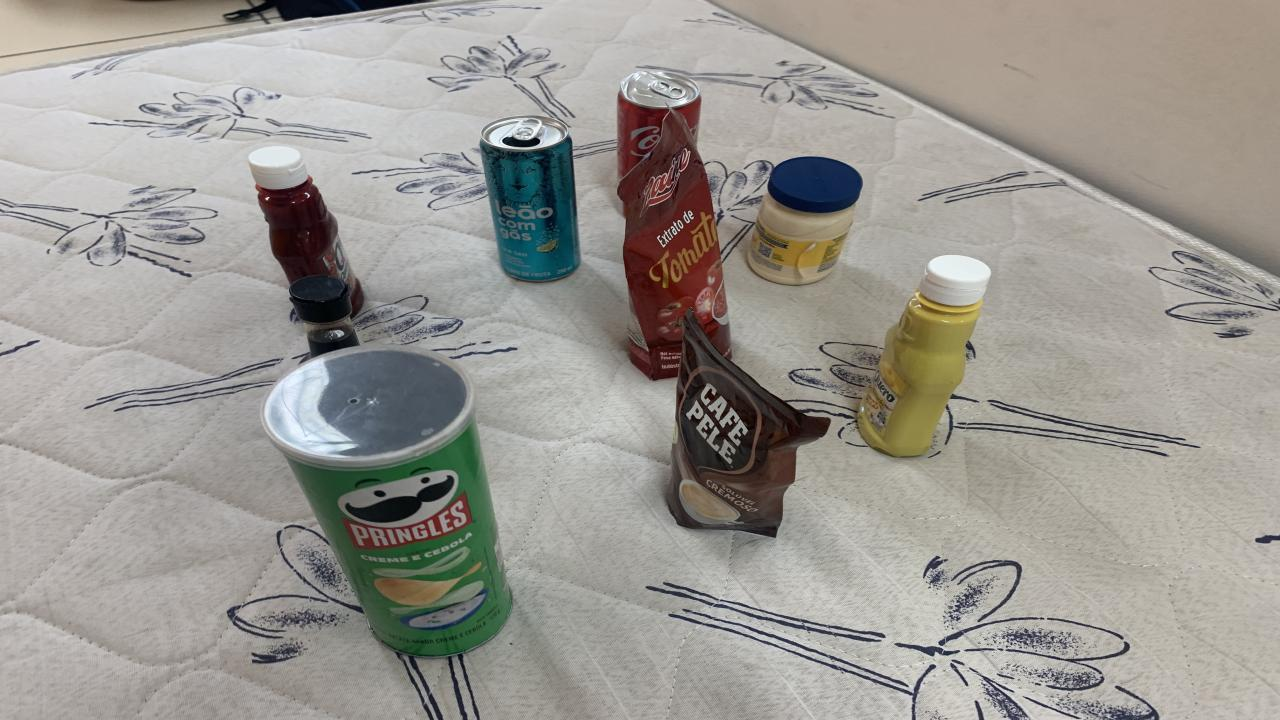Coffee-Pantry_Items: (668, 313, 830, 536), (248, 146, 362, 315)
Coke-Drinks: (618, 71, 700, 178)
English_Sauce-Pantry_Items: (290, 276, 360, 356)
Ketchup-Pantry_Items: (248, 146, 362, 315)
Mayonnaise-Pantry_Items: (748, 158, 862, 285)
Mustard-Pantry_Items: (858, 255, 990, 458)
Pringles-Snacks: (262, 345, 512, 656)
Tea-Drinks: (480, 116, 580, 281)
Tomato_Sauce-Pantry_Items: (618, 112, 730, 381)
